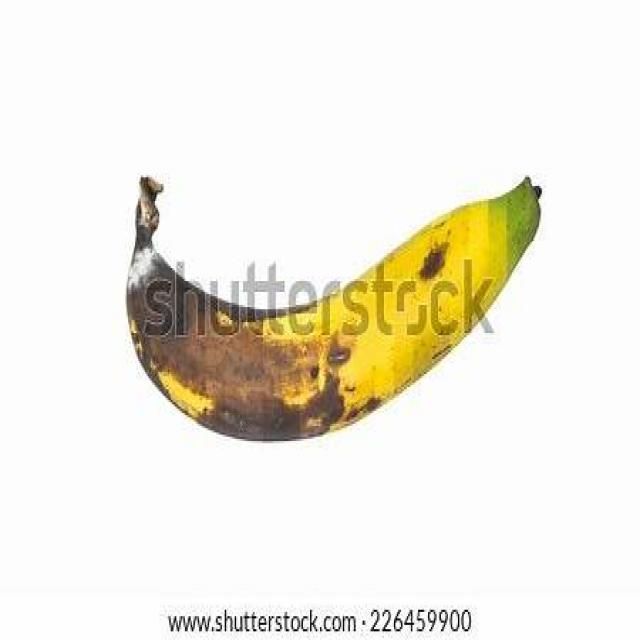Banana: (127, 178, 550, 439)
